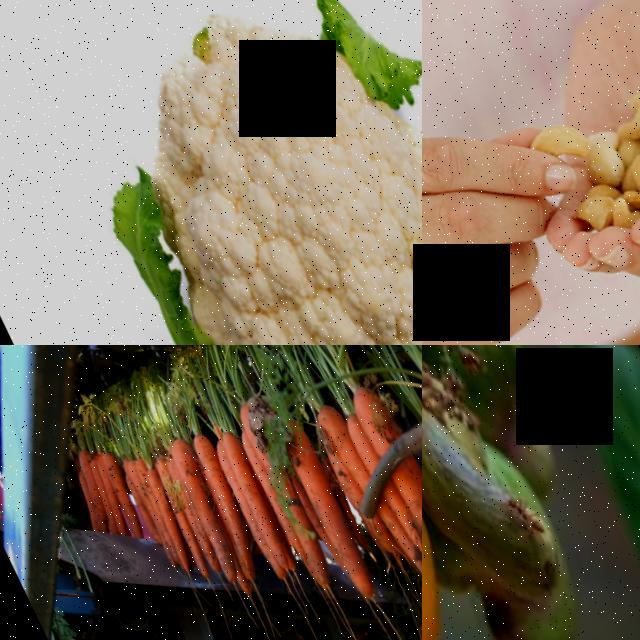carrot: (270, 405, 373, 594), (153, 405, 251, 583), (236, 403, 330, 574), (215, 424, 308, 590), (184, 422, 268, 573), (144, 447, 216, 578), (383, 440, 422, 619), (307, 378, 366, 485), (134, 457, 193, 562), (93, 438, 150, 535), (344, 361, 403, 443), (62, 435, 110, 511), (339, 401, 379, 470)
cashew: (422, 349, 569, 607), (530, 89, 610, 169)
cauliflower: (26, 0, 422, 345)
